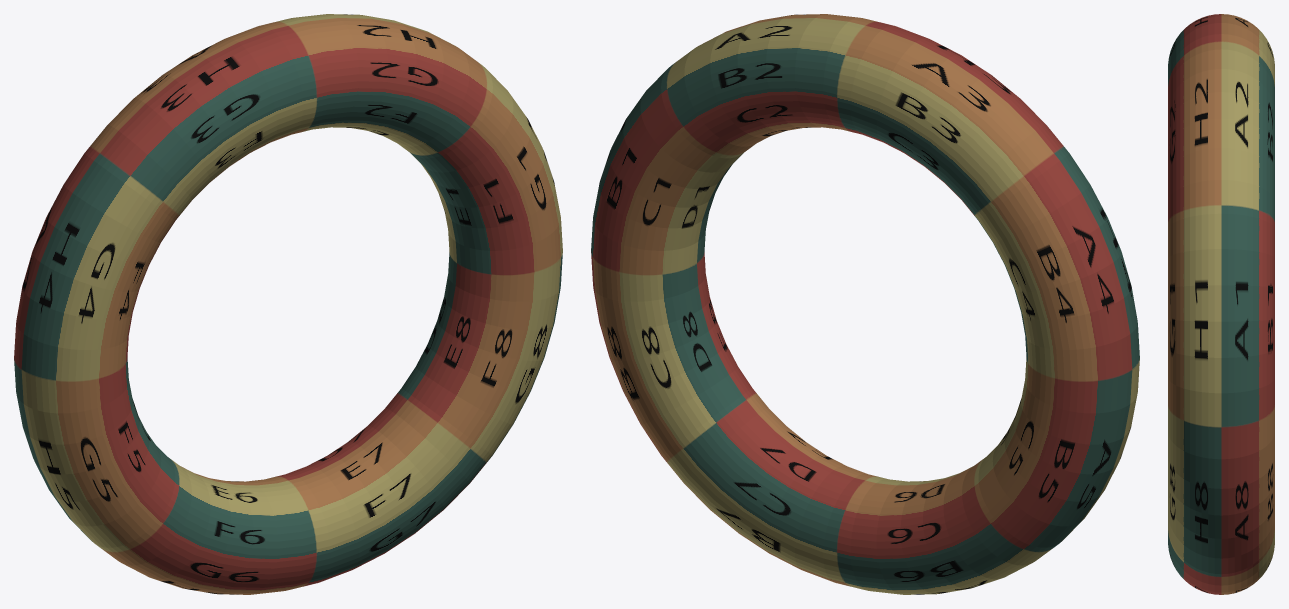
The model's file is texture_torus_R16_r10.glb.
The picture shows the model from 3 angles, left to right: view 1: azimuth 30°, elevation 25°; view 2: azimuth 150°, elevation 25°; view 3: azimuth 270°, elevation 25°; orthographic projection. The views are drawn at different scales.
Parts seen in each view (by area): view 1: world; view 2: world; view 3: world.
Part boxes in pixels (x1,y1,x2,y2): world: (14,14,562,594); world: (591,14,1139,594); world: (1168,14,1274,594).
Bounding box in the file's own units: 25.33 × 25.28 × 4.66.
1 material, 1 textured.
